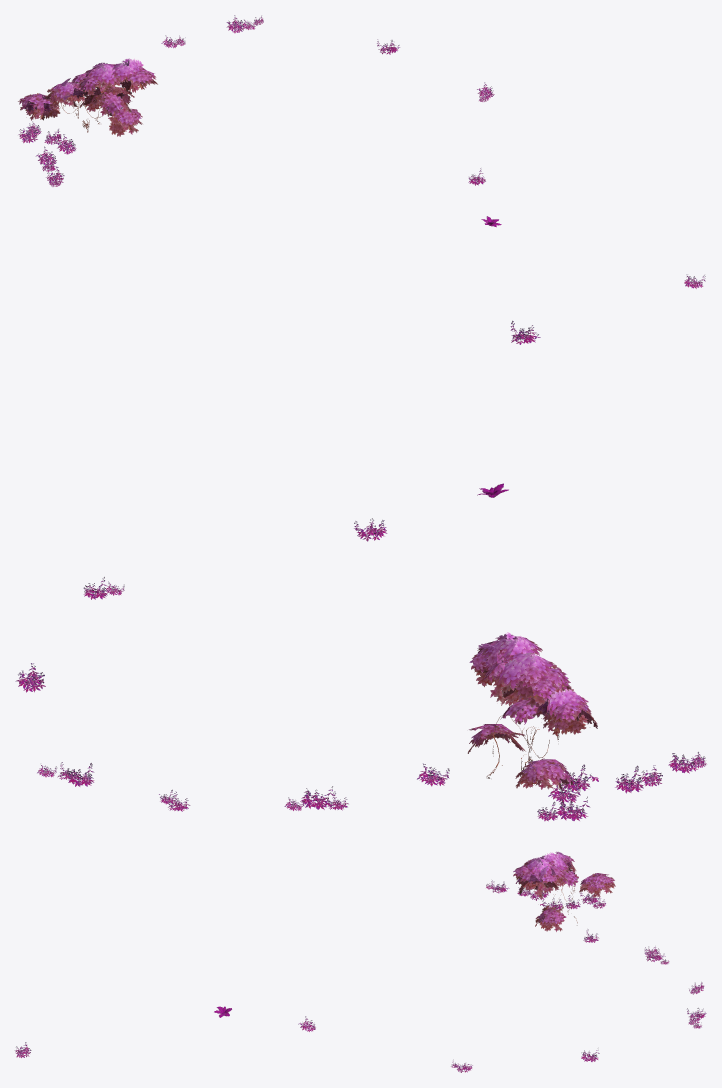
File: boss3_zhibei1_1.fbx
3 views of the same model, one above another, from view 1: azimuth 30°, elevation 25°; view 2: azimuth 150°, elevation 25°; view 3: azimuth 270°, elevation 25° (orthographic). The views are drawn at different scales.
Visible parts, largest first — view 1: boss3_zhibei1_1; view 2: boss3_zhibei1_1; view 3: boss3_zhibei1_1.
Boxes of the visible parts, box(x1,y1,x2,y2) form: boss3_zhibei1_1: box(18, 15, 705, 288); boss3_zhibei1_1: box(15, 320, 706, 821); boss3_zhibei1_1: box(14, 851, 706, 1072).
Size of the model in its own units: 6294 by 1196 by 9791.
